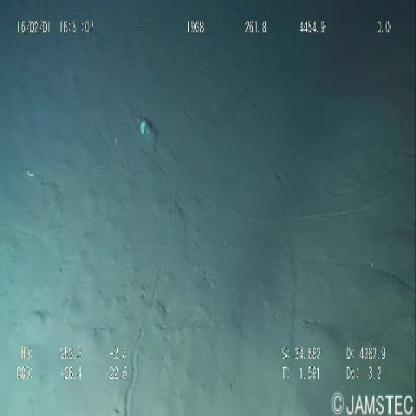Rác: (132, 106, 163, 154)
